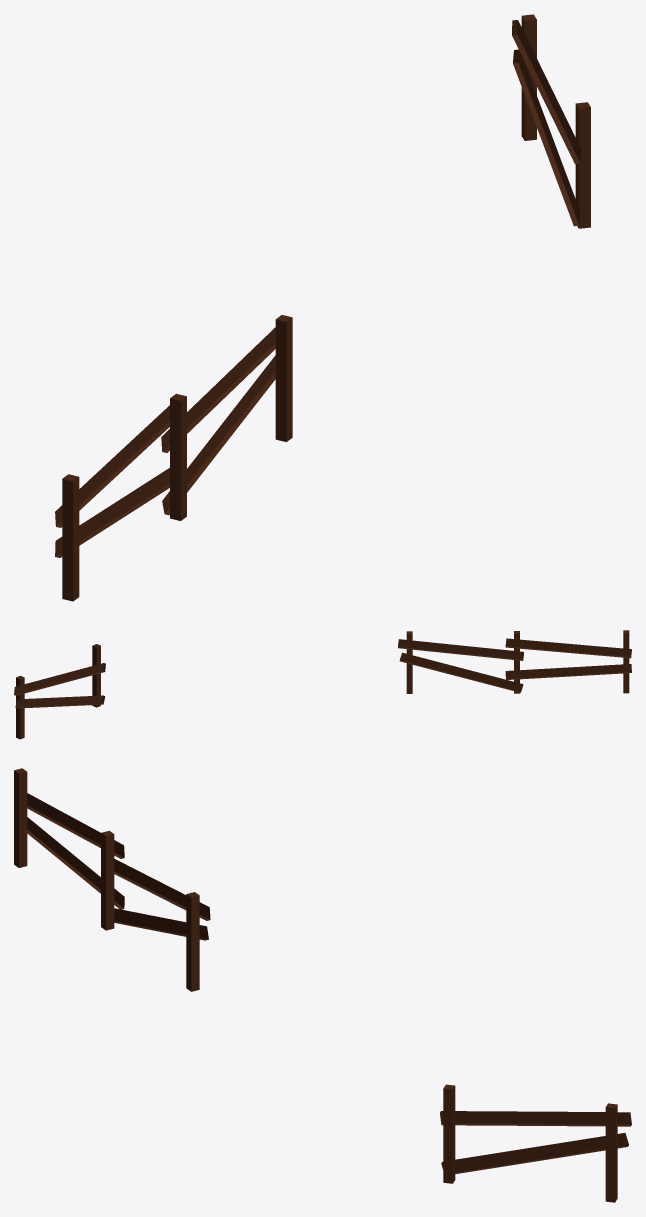
The model's file is fence.fbx.
3 views of the same model, one above another, from view 1: azimuth 30°, elevation 25°; view 2: azimuth 150°, elevation 25°; view 3: azimuth 270°, elevation 25° (orthographic). The views are drawn at different scales.
Visible parts, largest first — view 1: Cube.015, Cube.007, Cube, Cube.006, Cube.005; view 2: Cube.015, Cube.006, Cube.007, Cube.005, Cube; view 3: Cube.015, Cube.006, Cube.007, Cube.005, Cube.
Boxes of the visible parts, bbox=[...] form: Cube.015: bbox=[55, 315, 292, 601]; Cube.007: bbox=[513, 49, 580, 226]; Cube: bbox=[575, 102, 590, 228]; Cube.006: bbox=[512, 20, 580, 164]; Cube.005: bbox=[521, 14, 536, 140]; Cube.015: bbox=[398, 630, 631, 693]; Cube.006: bbox=[14, 663, 105, 695]; Cube.007: bbox=[15, 695, 105, 708]; Cube.005: bbox=[16, 675, 24, 739]; Cube: bbox=[92, 644, 100, 707]; Cube.015: bbox=[14, 768, 210, 991]; Cube.006: bbox=[440, 1111, 631, 1126]; Cube.007: bbox=[441, 1133, 628, 1173]; Cube.005: bbox=[605, 1103, 617, 1202]; Cube: bbox=[443, 1084, 455, 1183].
Bounding box in the file's own units: 907 × 142 × 724.
